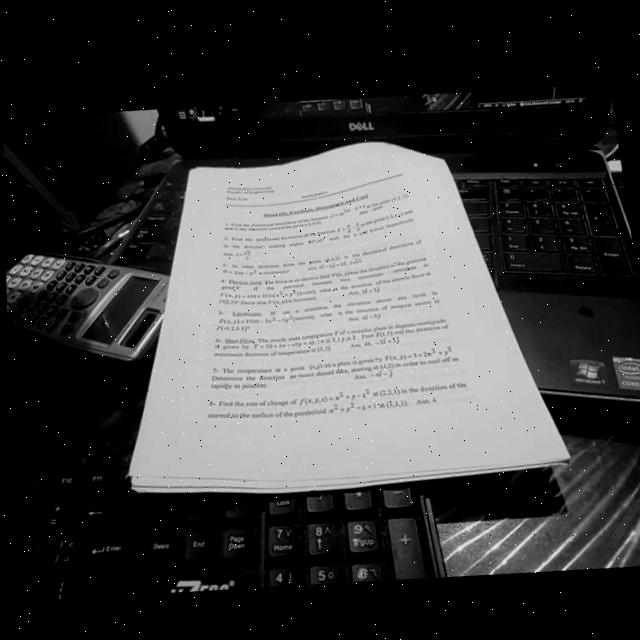document: (129, 142, 567, 492)
